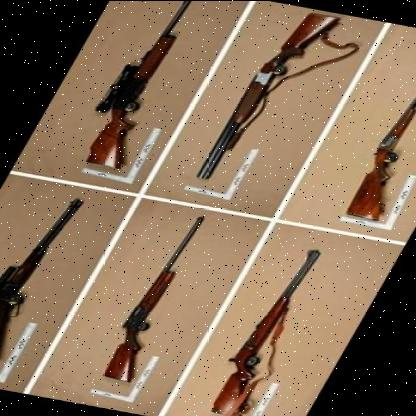rifle: (190, 8, 340, 184), (70, 208, 220, 384), (192, 243, 342, 416), (66, 0, 216, 169), (0, 193, 94, 369), (336, 47, 416, 223)
